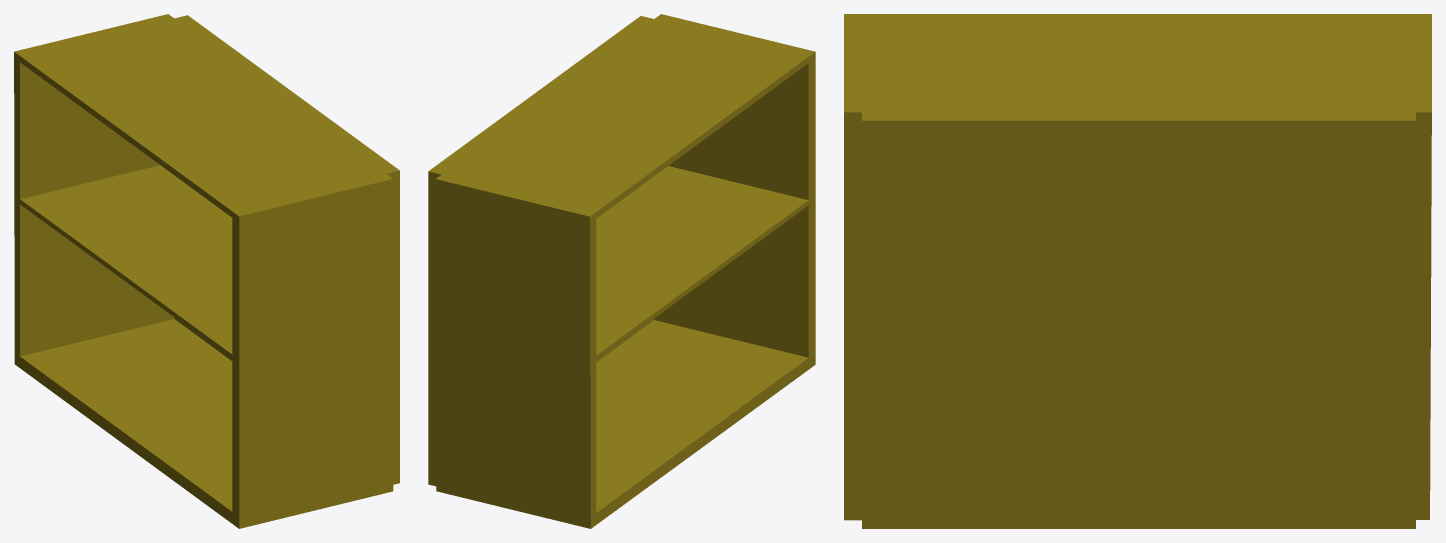
The model's file is Bookshelf1.fbx.
The picture shows the model from 3 angles, left to right: view 1: azimuth 30°, elevation 25°; view 2: azimuth 150°, elevation 25°; view 3: azimuth 270°, elevation 25°; orthographic projection. The views are drawn at different scales.
Parts seen in each view (by area): view 1: pCube1; view 2: pCube1; view 3: pCube1.
Part boxes in pixels (box(x1,y1,x2,y2)): pCube1: box(14, 14, 399, 528); pCube1: box(428, 14, 815, 528); pCube1: box(844, 14, 1431, 528).
Size of the model in its own units: 79.12 by 141 by 184.
